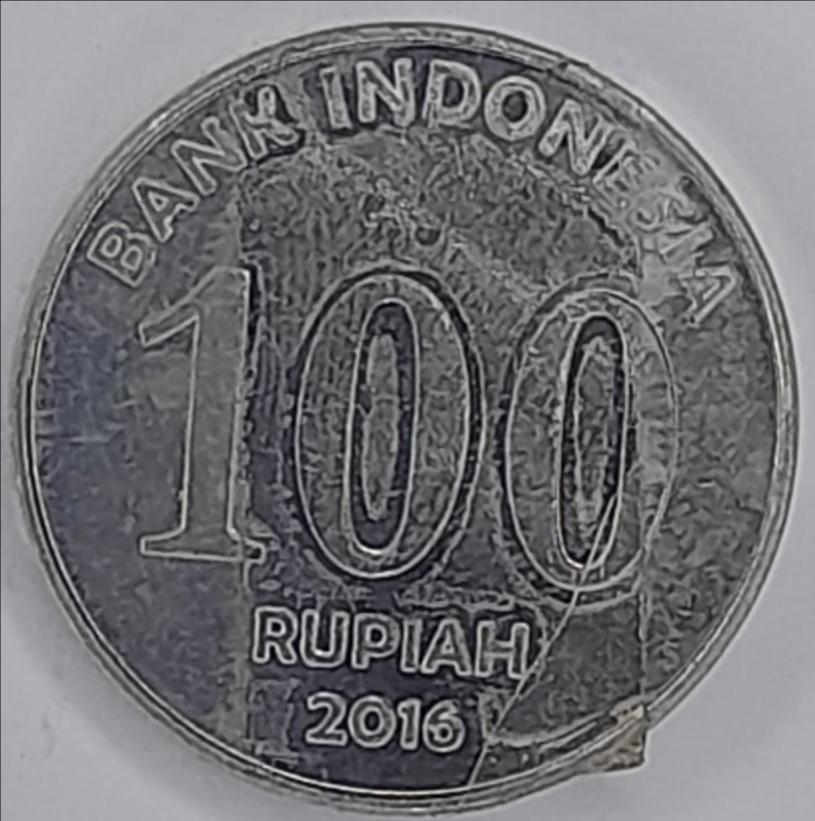coin_100_e2016: (7, 17, 804, 817)
